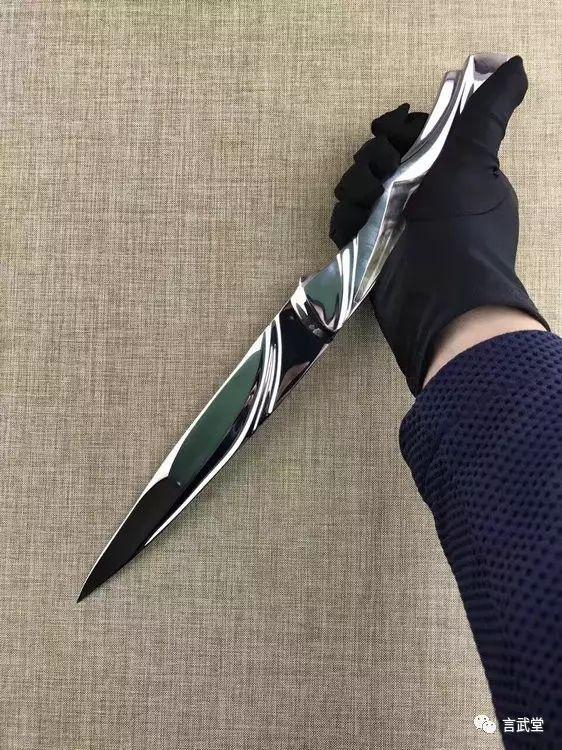knife: (54, 46, 486, 646)
